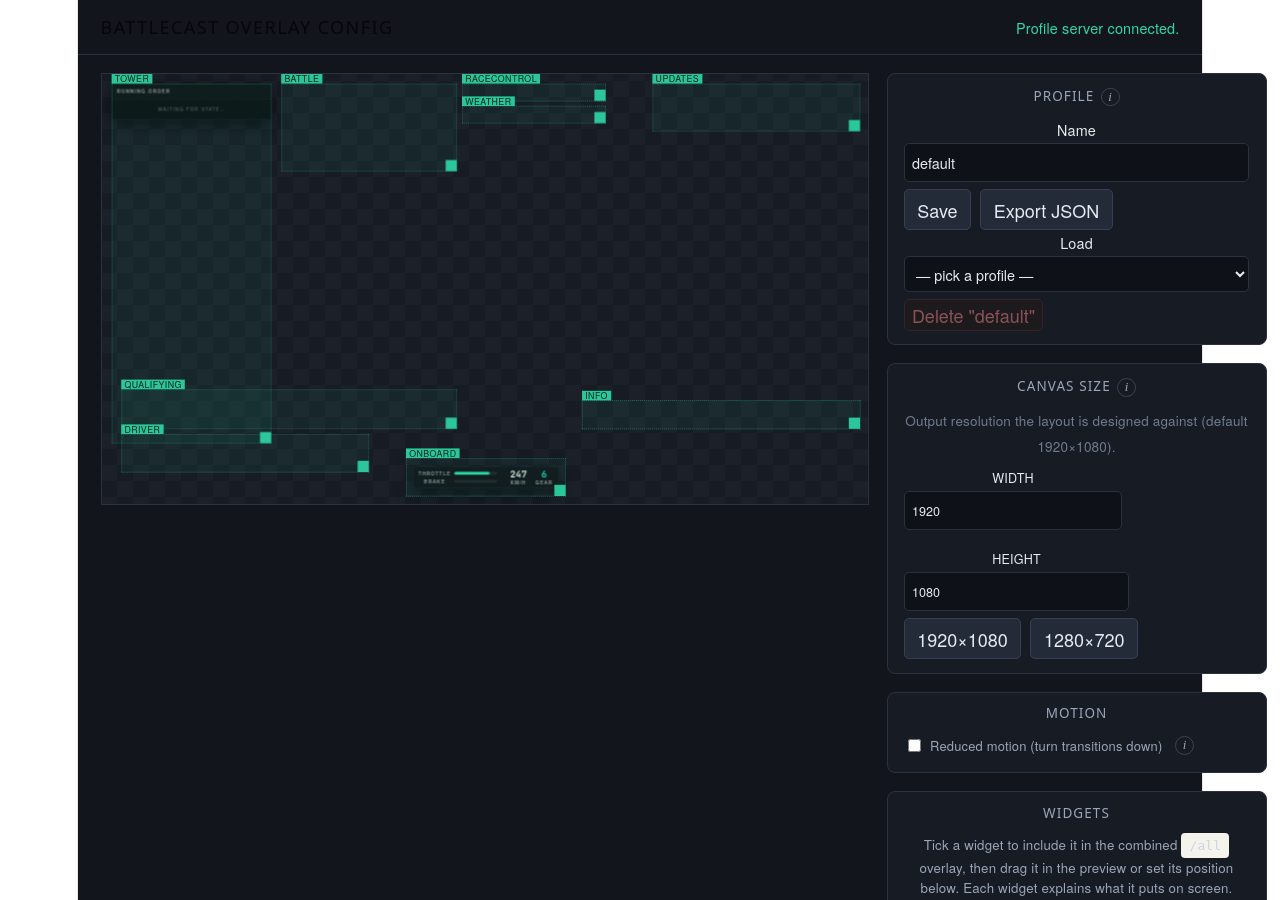
rule 27 — the connection follows the configured producer URL, debounced › follows a profile load, which replaces producer.src without any field edit
This screenshot has width=1280, height=900.
Select "race-pc" in the dropdown with test id "load" at (1076, 274), box [904, 256, 1249, 292]
Wait 500 ms
(page scrolled)
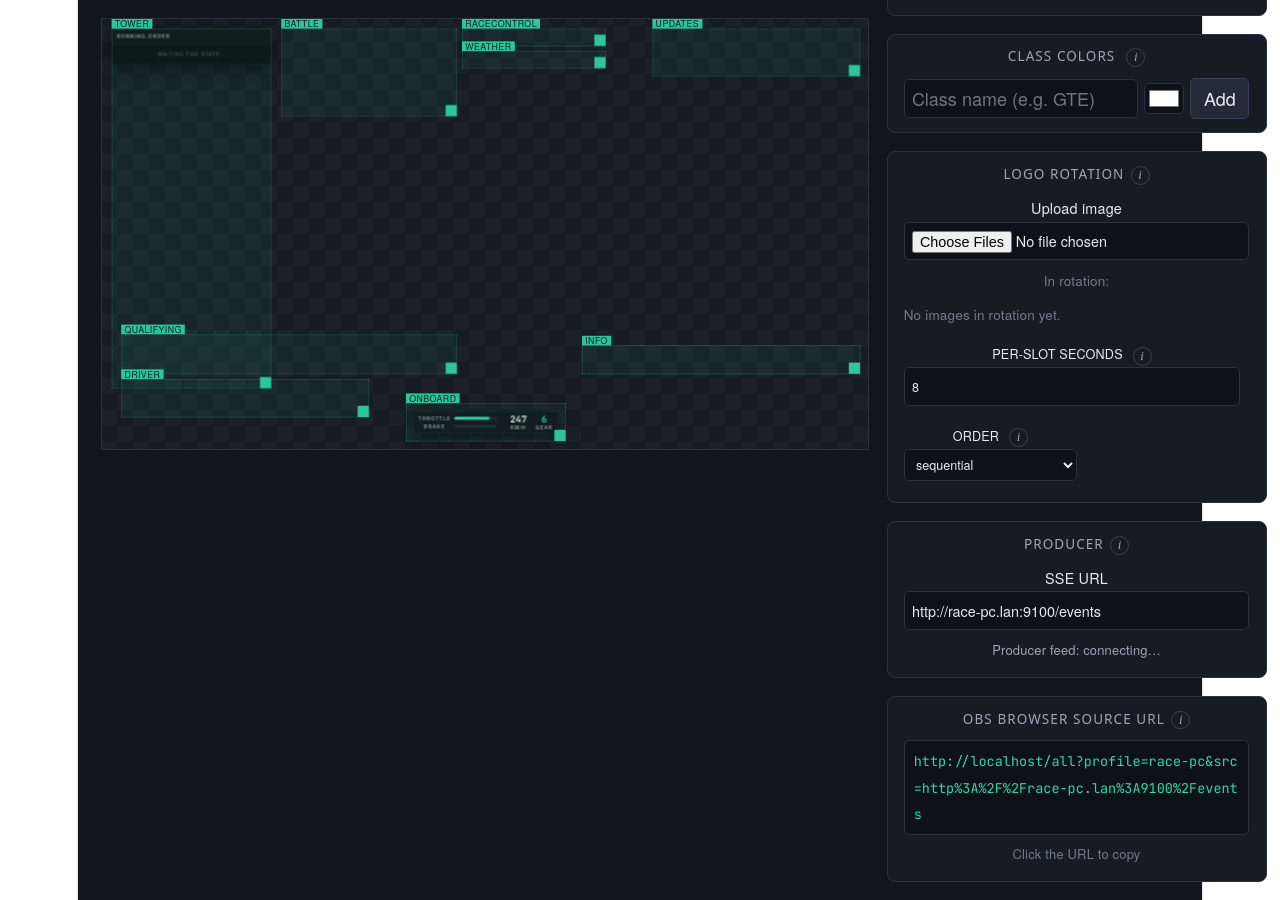
Expected: the message with test id "feed-status" reads "Producer feed: connecting…", [992, 640, 1161, 660]
Result: the field with test id "producer-src" holds "http://race-pc.lan:9100/events" at [904, 591, 1249, 630]
